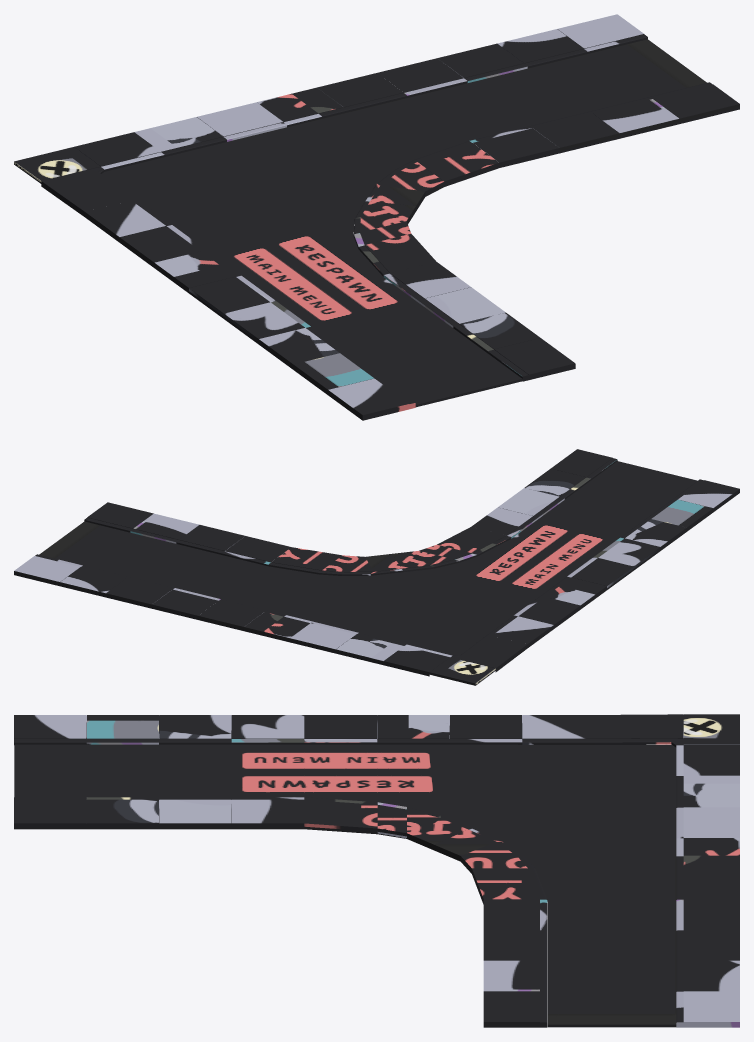
File: SM_Street_90Turn_Long.fbx
3 renders of one model, top to bottom at view 1: azimuth 30°, elevation 25°; view 2: azimuth 150°, elevation 25°; view 3: azimuth 270°, elevation 25°, orthographic. The views are drawn at different scales.
Parts seen in each view (by area): view 1: SM_Road_90Turn_Long, SM_Sidewalk_90Turn_Long; view 2: SM_Sidewalk_90Turn_Long, SM_Road_90Turn_Long; view 3: SM_Road_90Turn_Long, SM_Sidewalk_90Turn_Long.
Boxes of the visible parts, x1,y1,x2,y2 form: SM_Road_90Turn_Long: (102, 39, 706, 407); SM_Sidewalk_90Turn_Long: (14, 14, 739, 420); SM_Sidewalk_90Turn_Long: (14, 449, 739, 685); SM_Road_90Turn_Long: (39, 461, 697, 655); SM_Road_90Turn_Long: (14, 744, 676, 1027); SM_Sidewalk_90Turn_Long: (14, 714, 739, 1027).
Size of the model in its own units: 17.68 by 17.62 by 0.1544.
